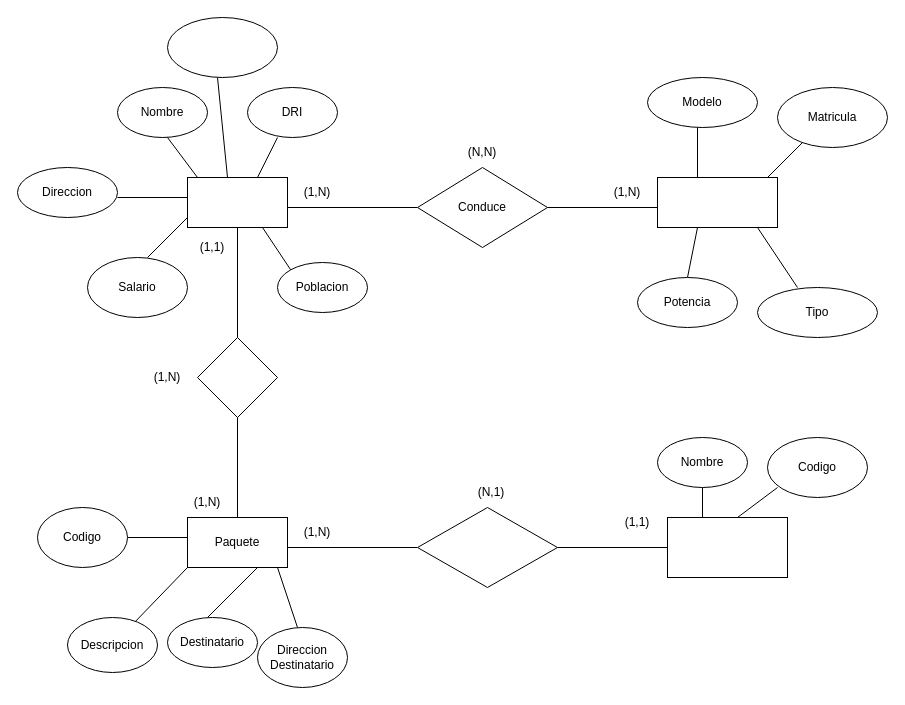
The diagram is 905 pixels wide and 705 high, and some of its shapes have lost their labels. The shapes that lost their labels are listed below. From the top down, each one's centre as x and y in pixels, then its label:
At point (222, 47): "Telefono".
At point (237, 202): "Camionero".
At point (717, 202): "Camion".
At point (237, 377): "Llevan".
At point (487, 547): "Llega".
At point (727, 547): "Provincia".
